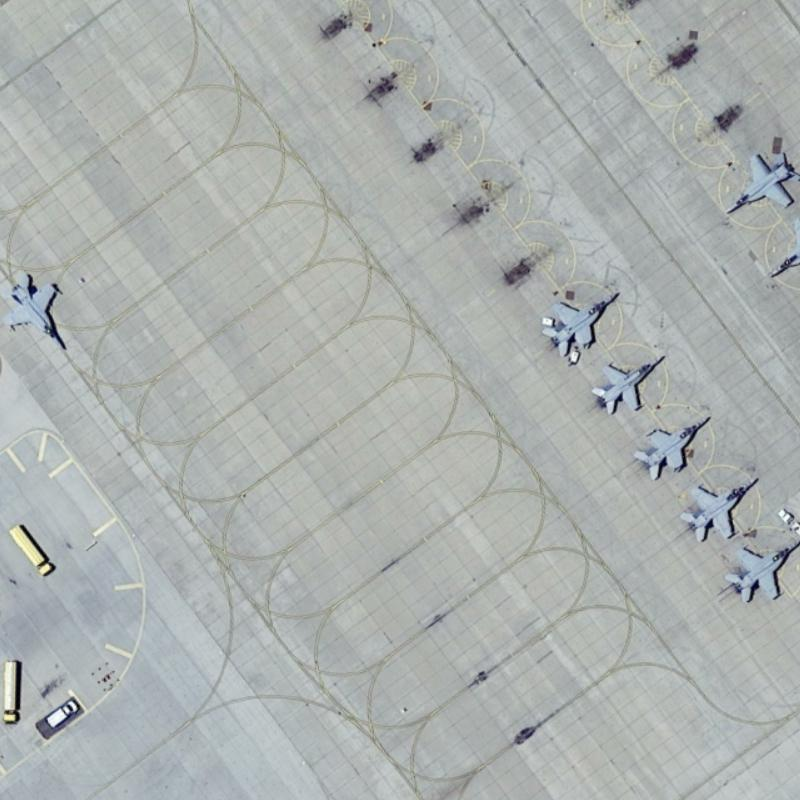A16: (535, 287, 621, 360), (677, 474, 762, 547), (628, 412, 713, 483), (0, 268, 71, 352), (719, 537, 799, 605), (721, 145, 799, 214), (586, 351, 667, 415)
